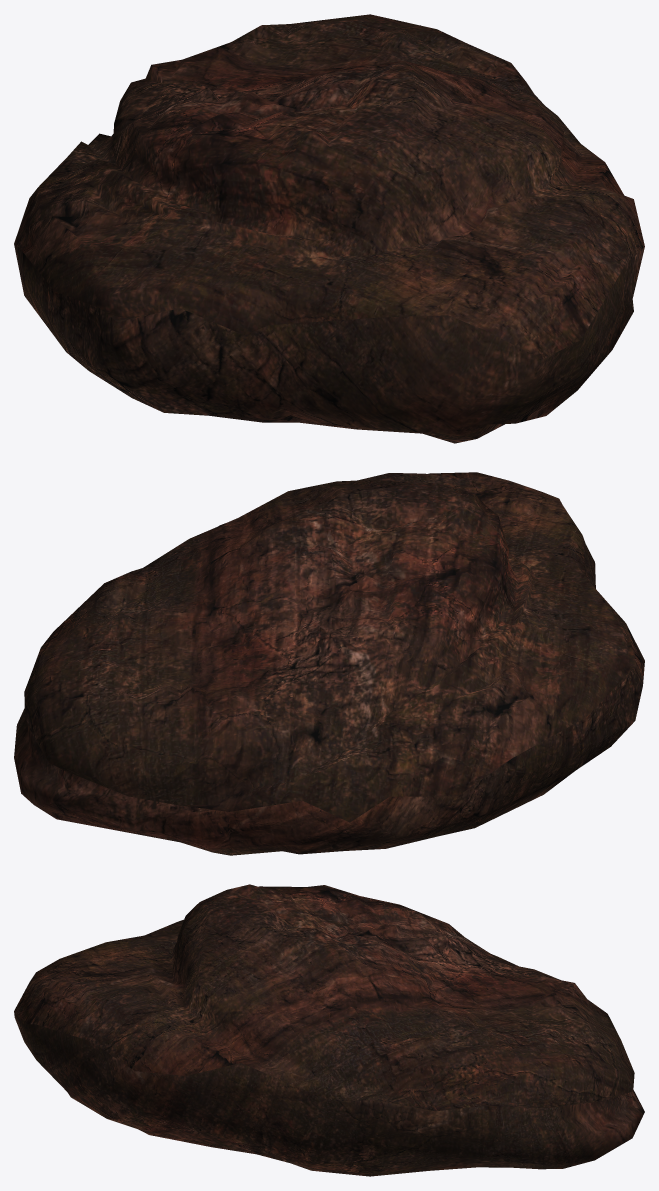
The model's file is rock_red_small07_projected.dae.
3 views of the same model, one above another, from view 1: azimuth 30°, elevation 25°; view 2: azimuth 150°, elevation 25°; view 3: azimuth 270°, elevation 25° (orthographic). The views are drawn at different scales.
Parts seen in each view (by area): view 1: Mesh; view 2: Mesh; view 3: Mesh.
Part boxes in pixels (box(x1,y1,x2,y2)): Mesh: box(14, 14, 644, 443); Mesh: box(14, 472, 644, 855); Mesh: box(14, 884, 644, 1176).
Size of the model in its own units: 0.7048 by 0.3352 by 0.9288.
